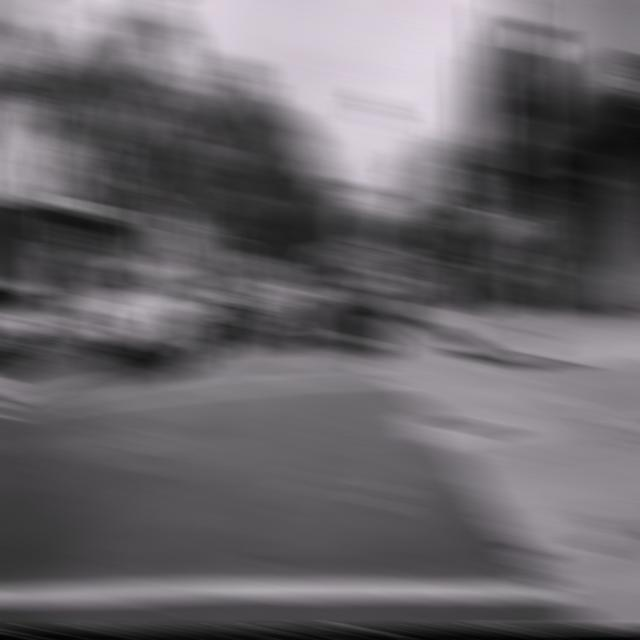speedLimit25: (442, 162, 482, 214)
